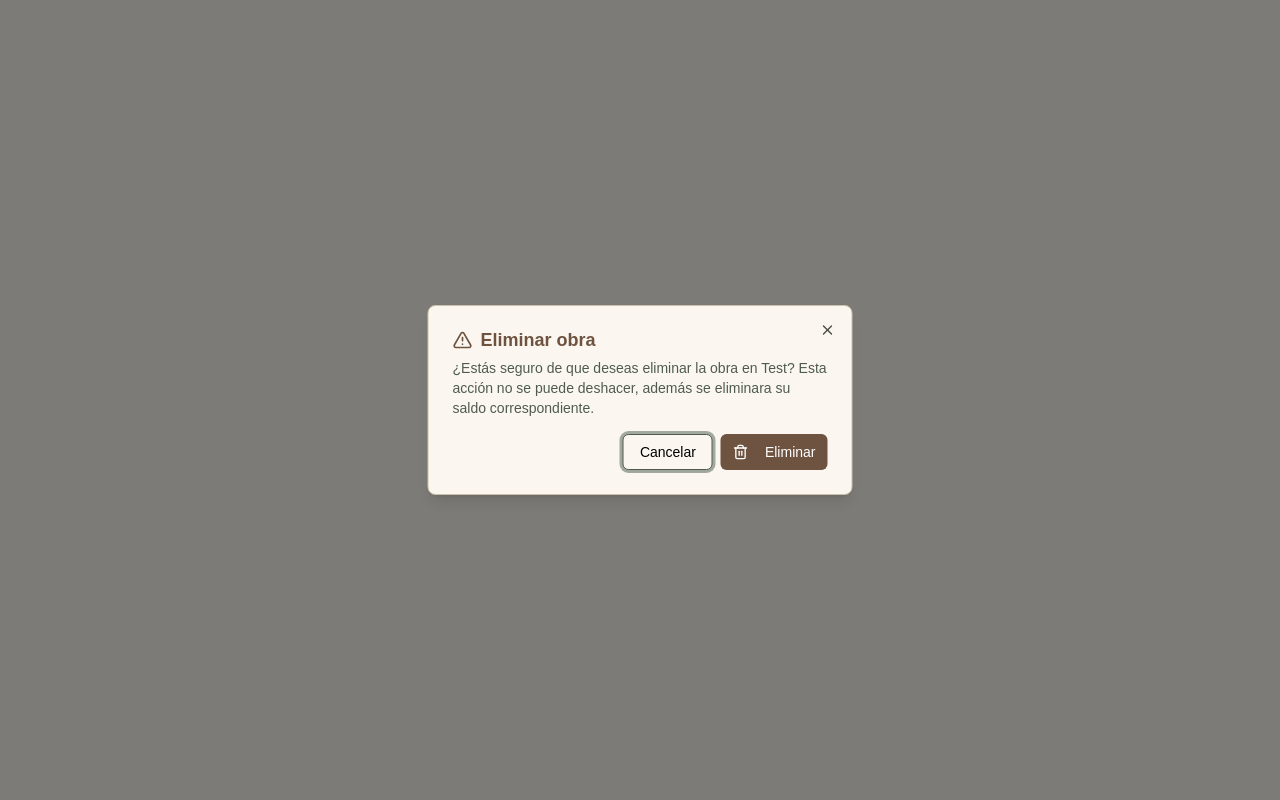
DeleteWorkDialog › disables buttons while deleting
What coordinates should you click on to do the following:
click the button "Eliminar"
I would click on:
 (774, 452)
Its box is [721,434,828,470].
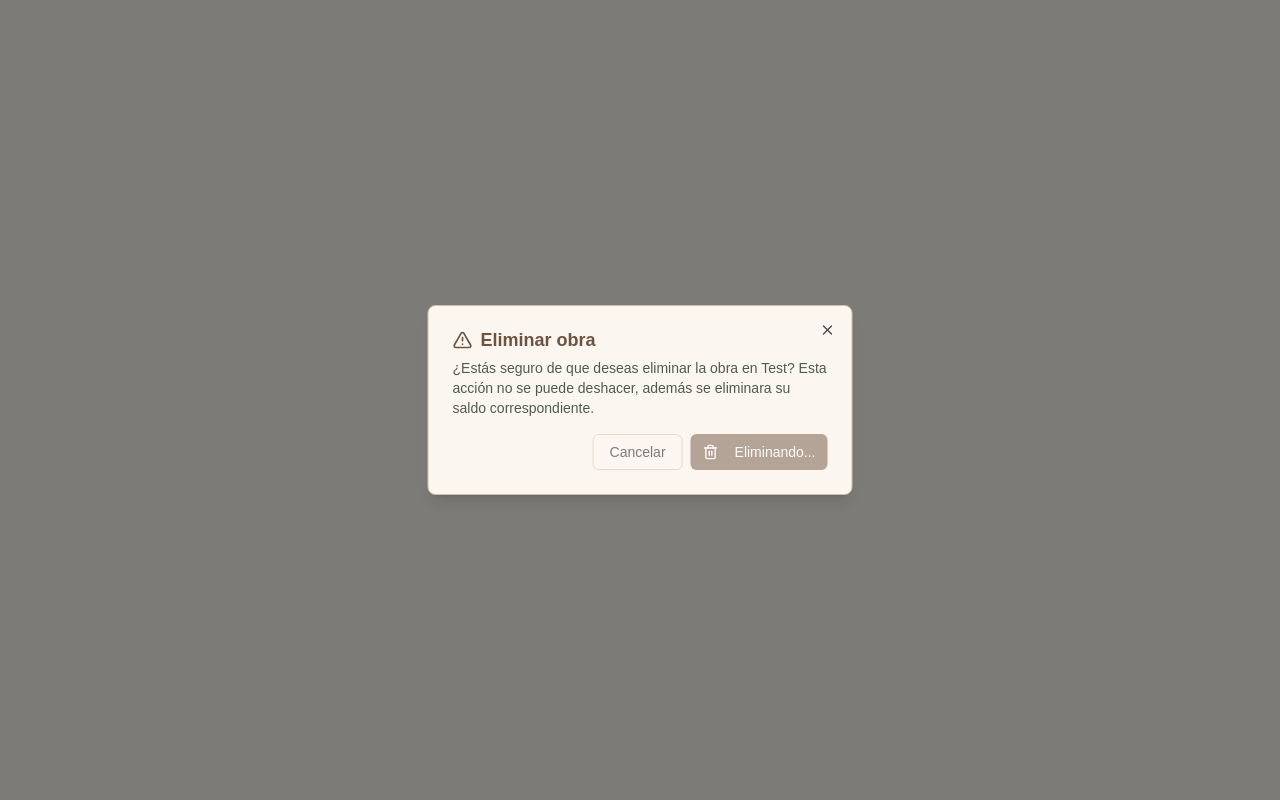
Check: the button "Cancelar" is disabled, box [592,434,682,470]
Check: the button "Eliminando..." is disabled, box [691,434,828,470]
